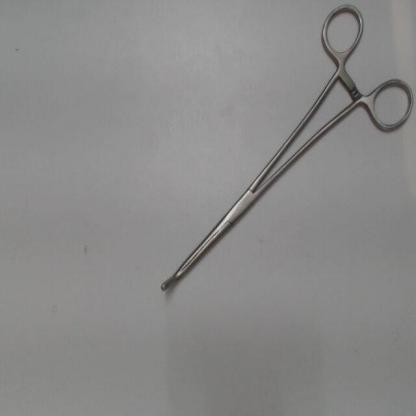Lahey Forceps: (153, 0, 413, 309)
